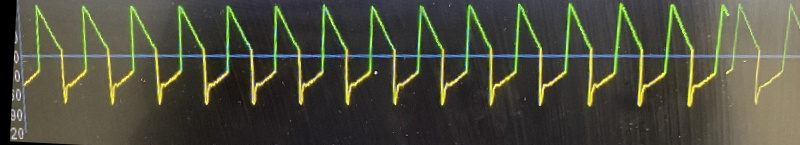peepi: (28, 0, 723, 111)
